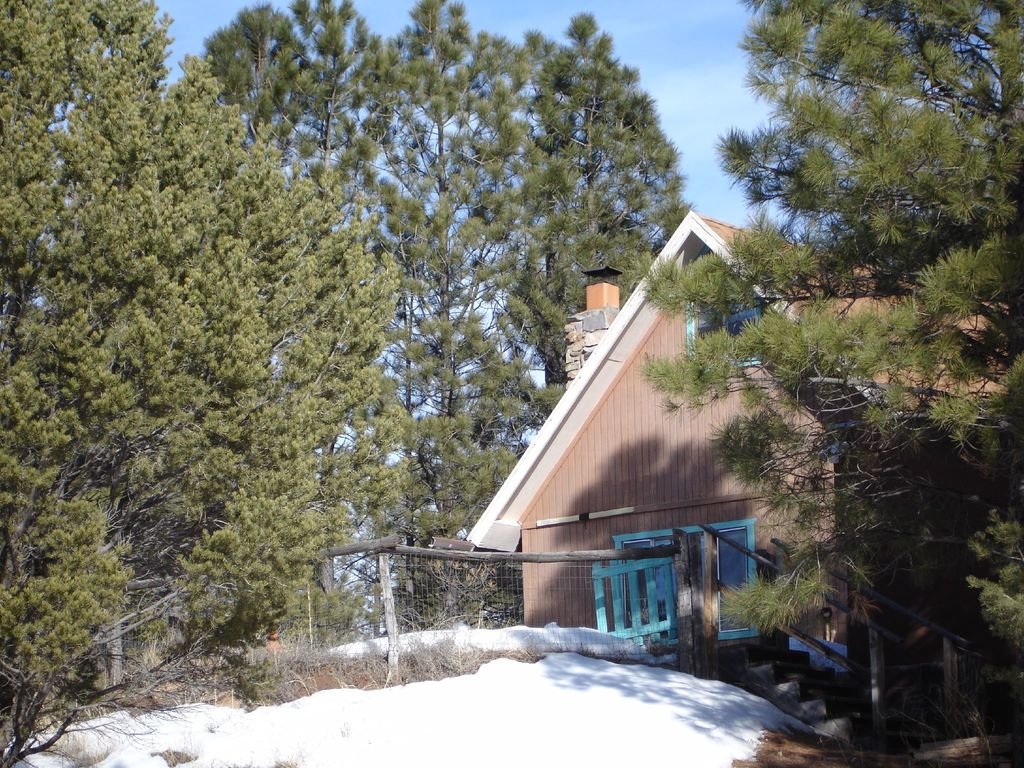Tree: (0, 3, 510, 767), (200, 0, 693, 608), (623, 0, 1023, 669)
